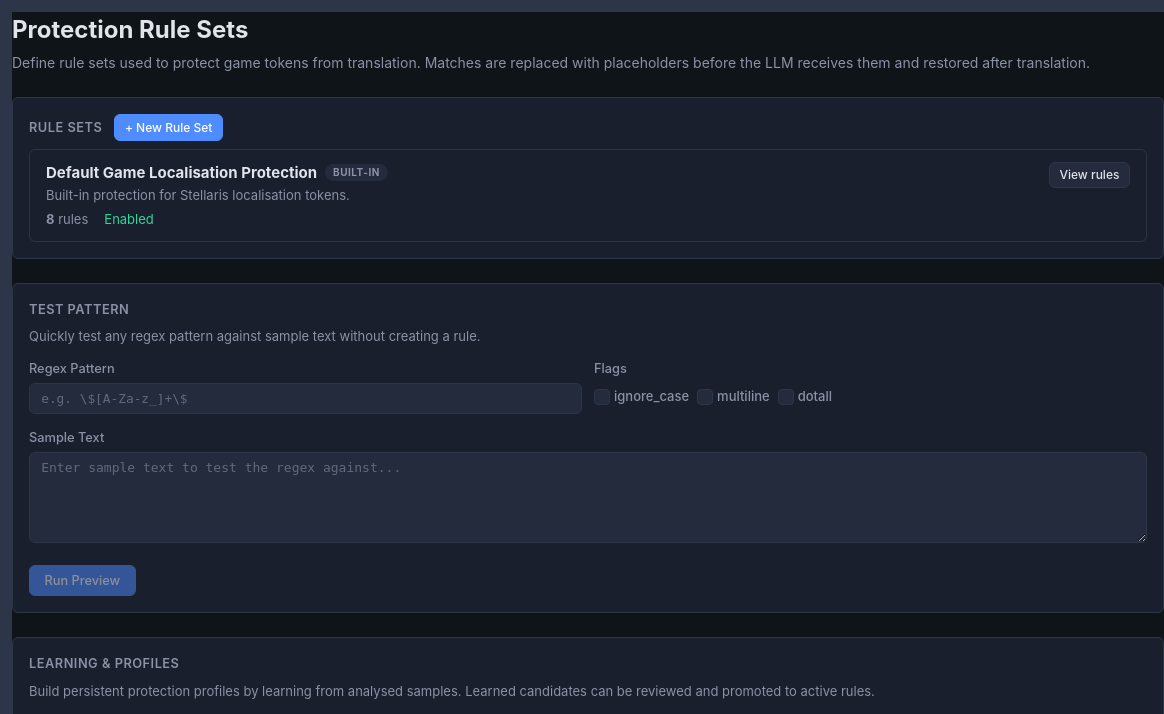
Test: ProtectionRules — rule-set-centric UI › clicking Hide rules collapses builtin rules
Expected: the text "Default Game Localisation Protection" is shown, [46,162,317,184]
Click the button "View rules". click: (1089, 175)
box: [1049,162,1130,188]
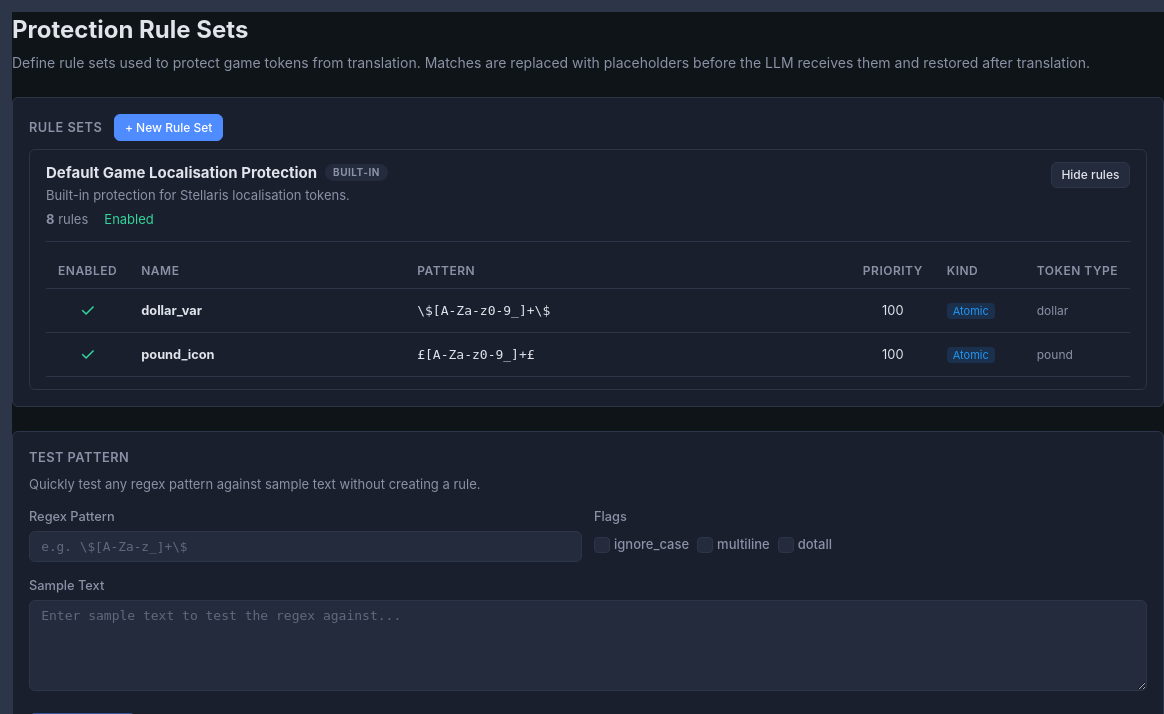
Now the text "dollar_var" is shown, box [141,303,202,318]
Click the button "Hide rules". click: (1090, 175)
box: [1051,162,1130,188]
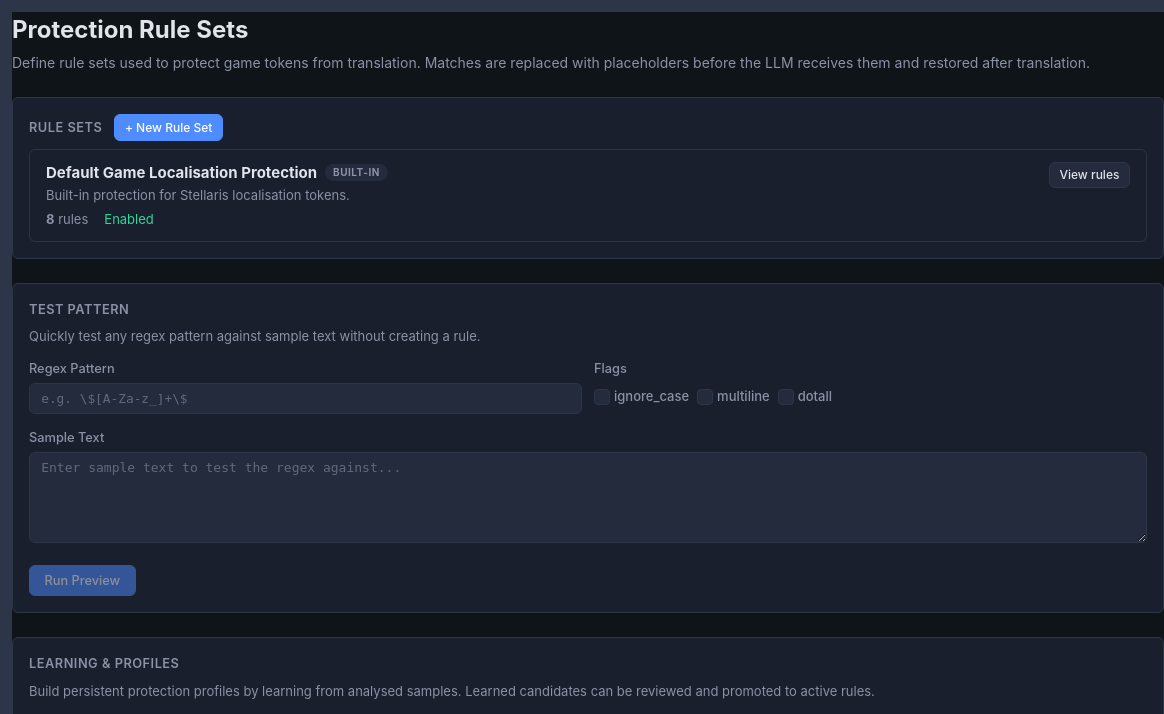
Now the text "dollar_var" is gone
